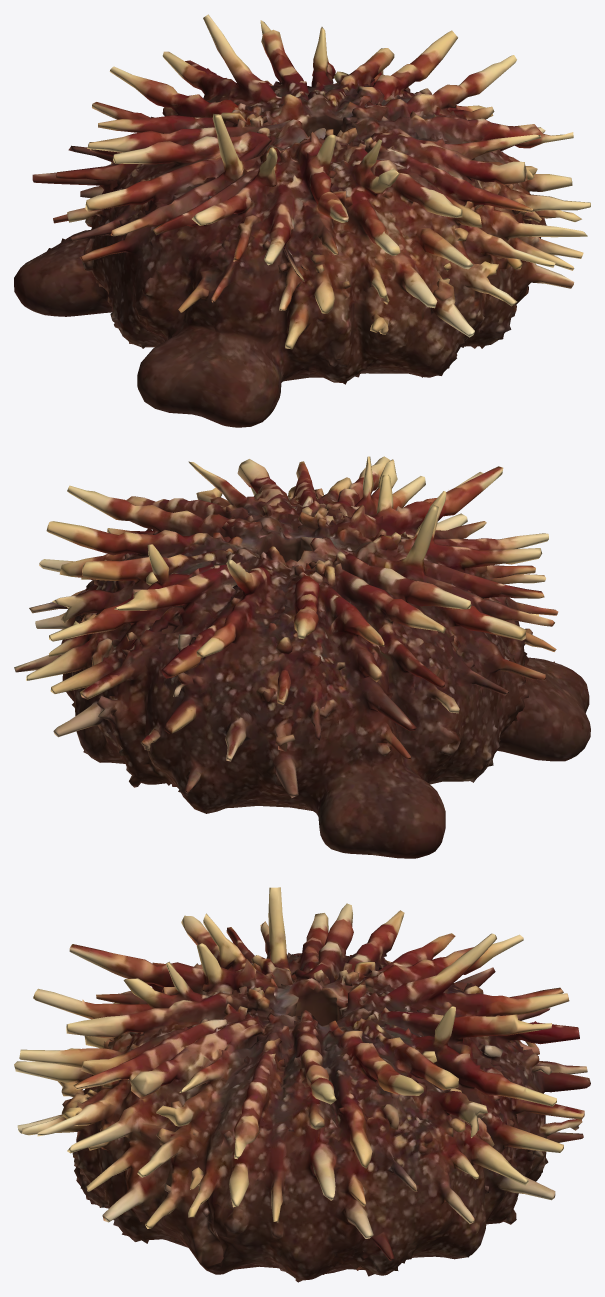
The model's file is urchin_pencil.glb.
The picture shows the model from 3 angles, top to bottom: view 1: azimuth 30°, elevation 25°; view 2: azimuth 150°, elevation 25°; view 3: azimuth 270°, elevation 25°; orthographic projection. The views are drawn at different scales.
Visible parts, largest first — view 1: tripo_node_d74755e8-a756-4e25-8c62-67c2bd1a5270; view 2: tripo_node_d74755e8-a756-4e25-8c62-67c2bd1a5270; view 3: tripo_node_d74755e8-a756-4e25-8c62-67c2bd1a5270.
Part boxes in pixels (bbox=[...]): tripo_node_d74755e8-a756-4e25-8c62-67c2bd1a5270: bbox=[14, 14, 590, 427]; tripo_node_d74755e8-a756-4e25-8c62-67c2bd1a5270: bbox=[14, 456, 590, 858]; tripo_node_d74755e8-a756-4e25-8c62-67c2bd1a5270: bbox=[14, 887, 590, 1282].
Bounding box in the file's own units: 1 × 0.5008 × 0.9927.
Materials: 1 (1 with a texture image).
